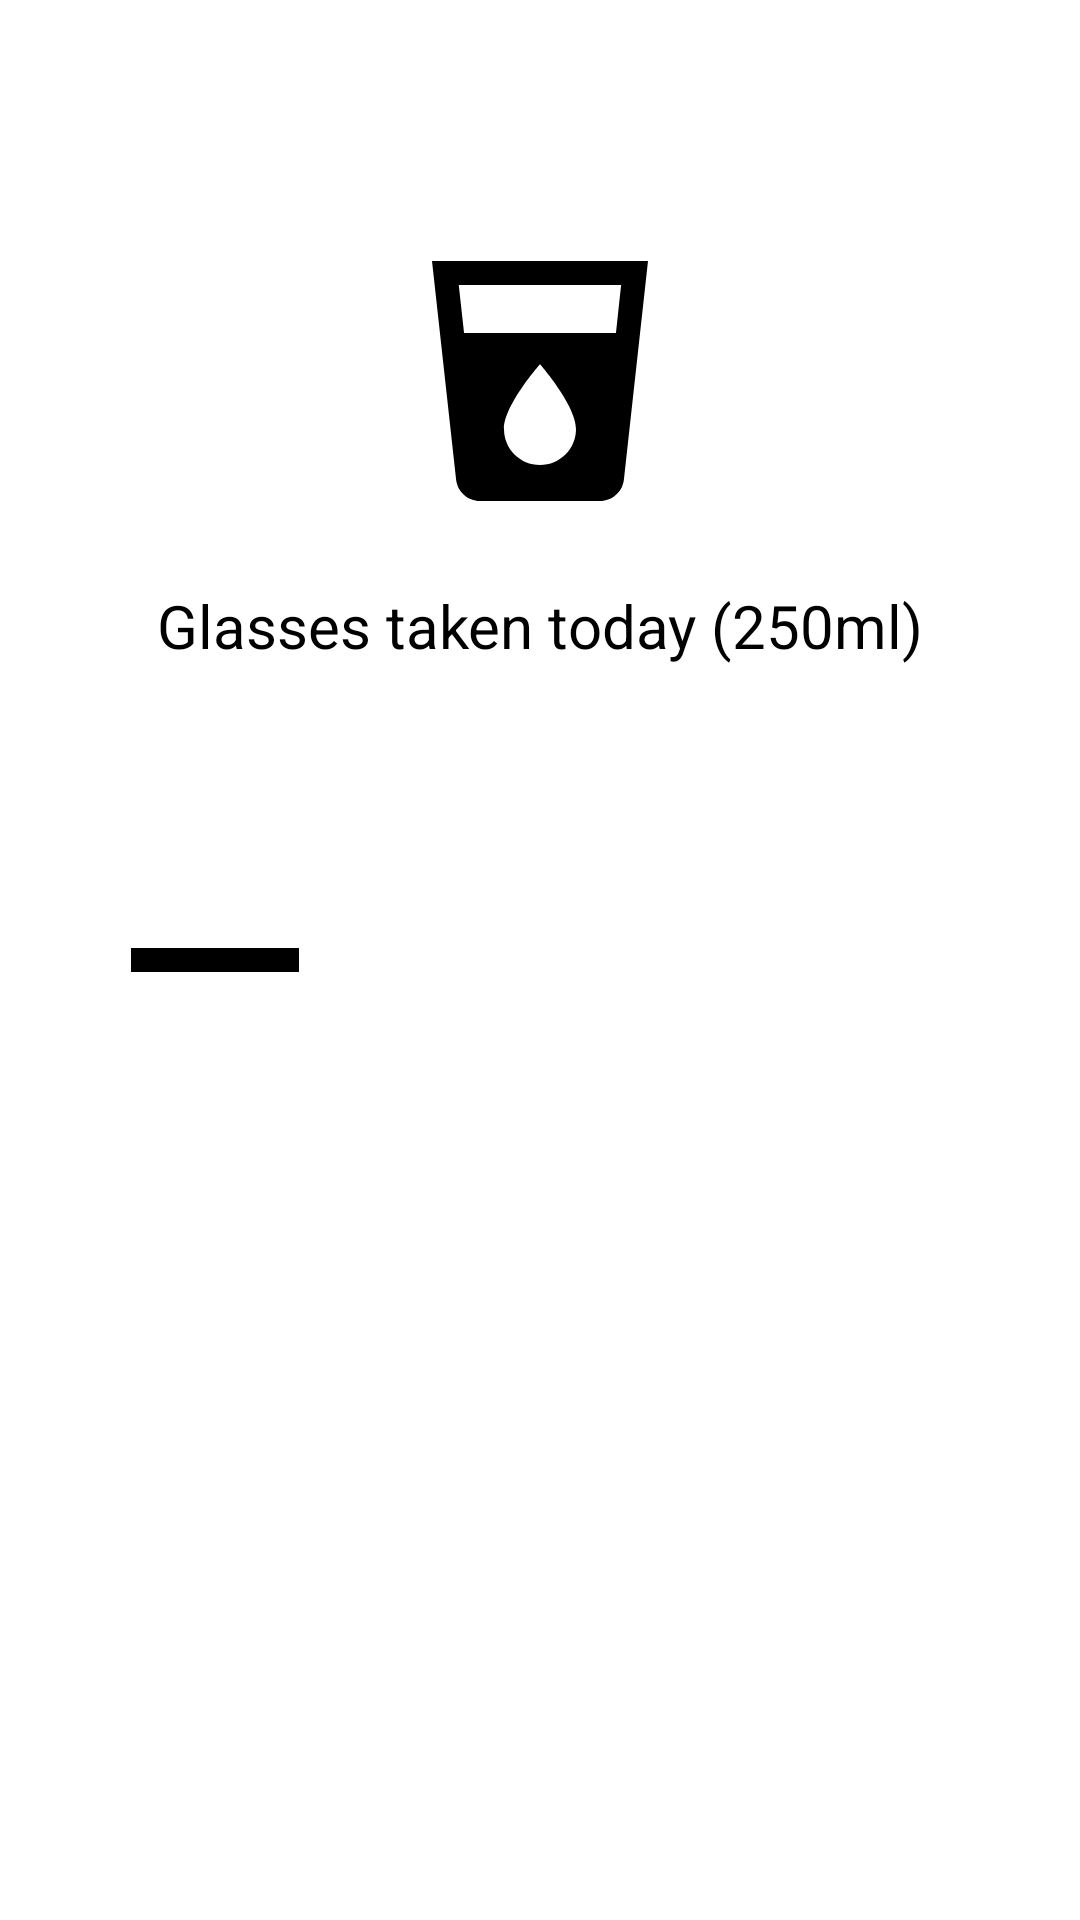

Where icons sit on this 1080×1920 app screen, as [x1, y1, x2, y2]:
Water Glass Image: [432, 261, 648, 501]
